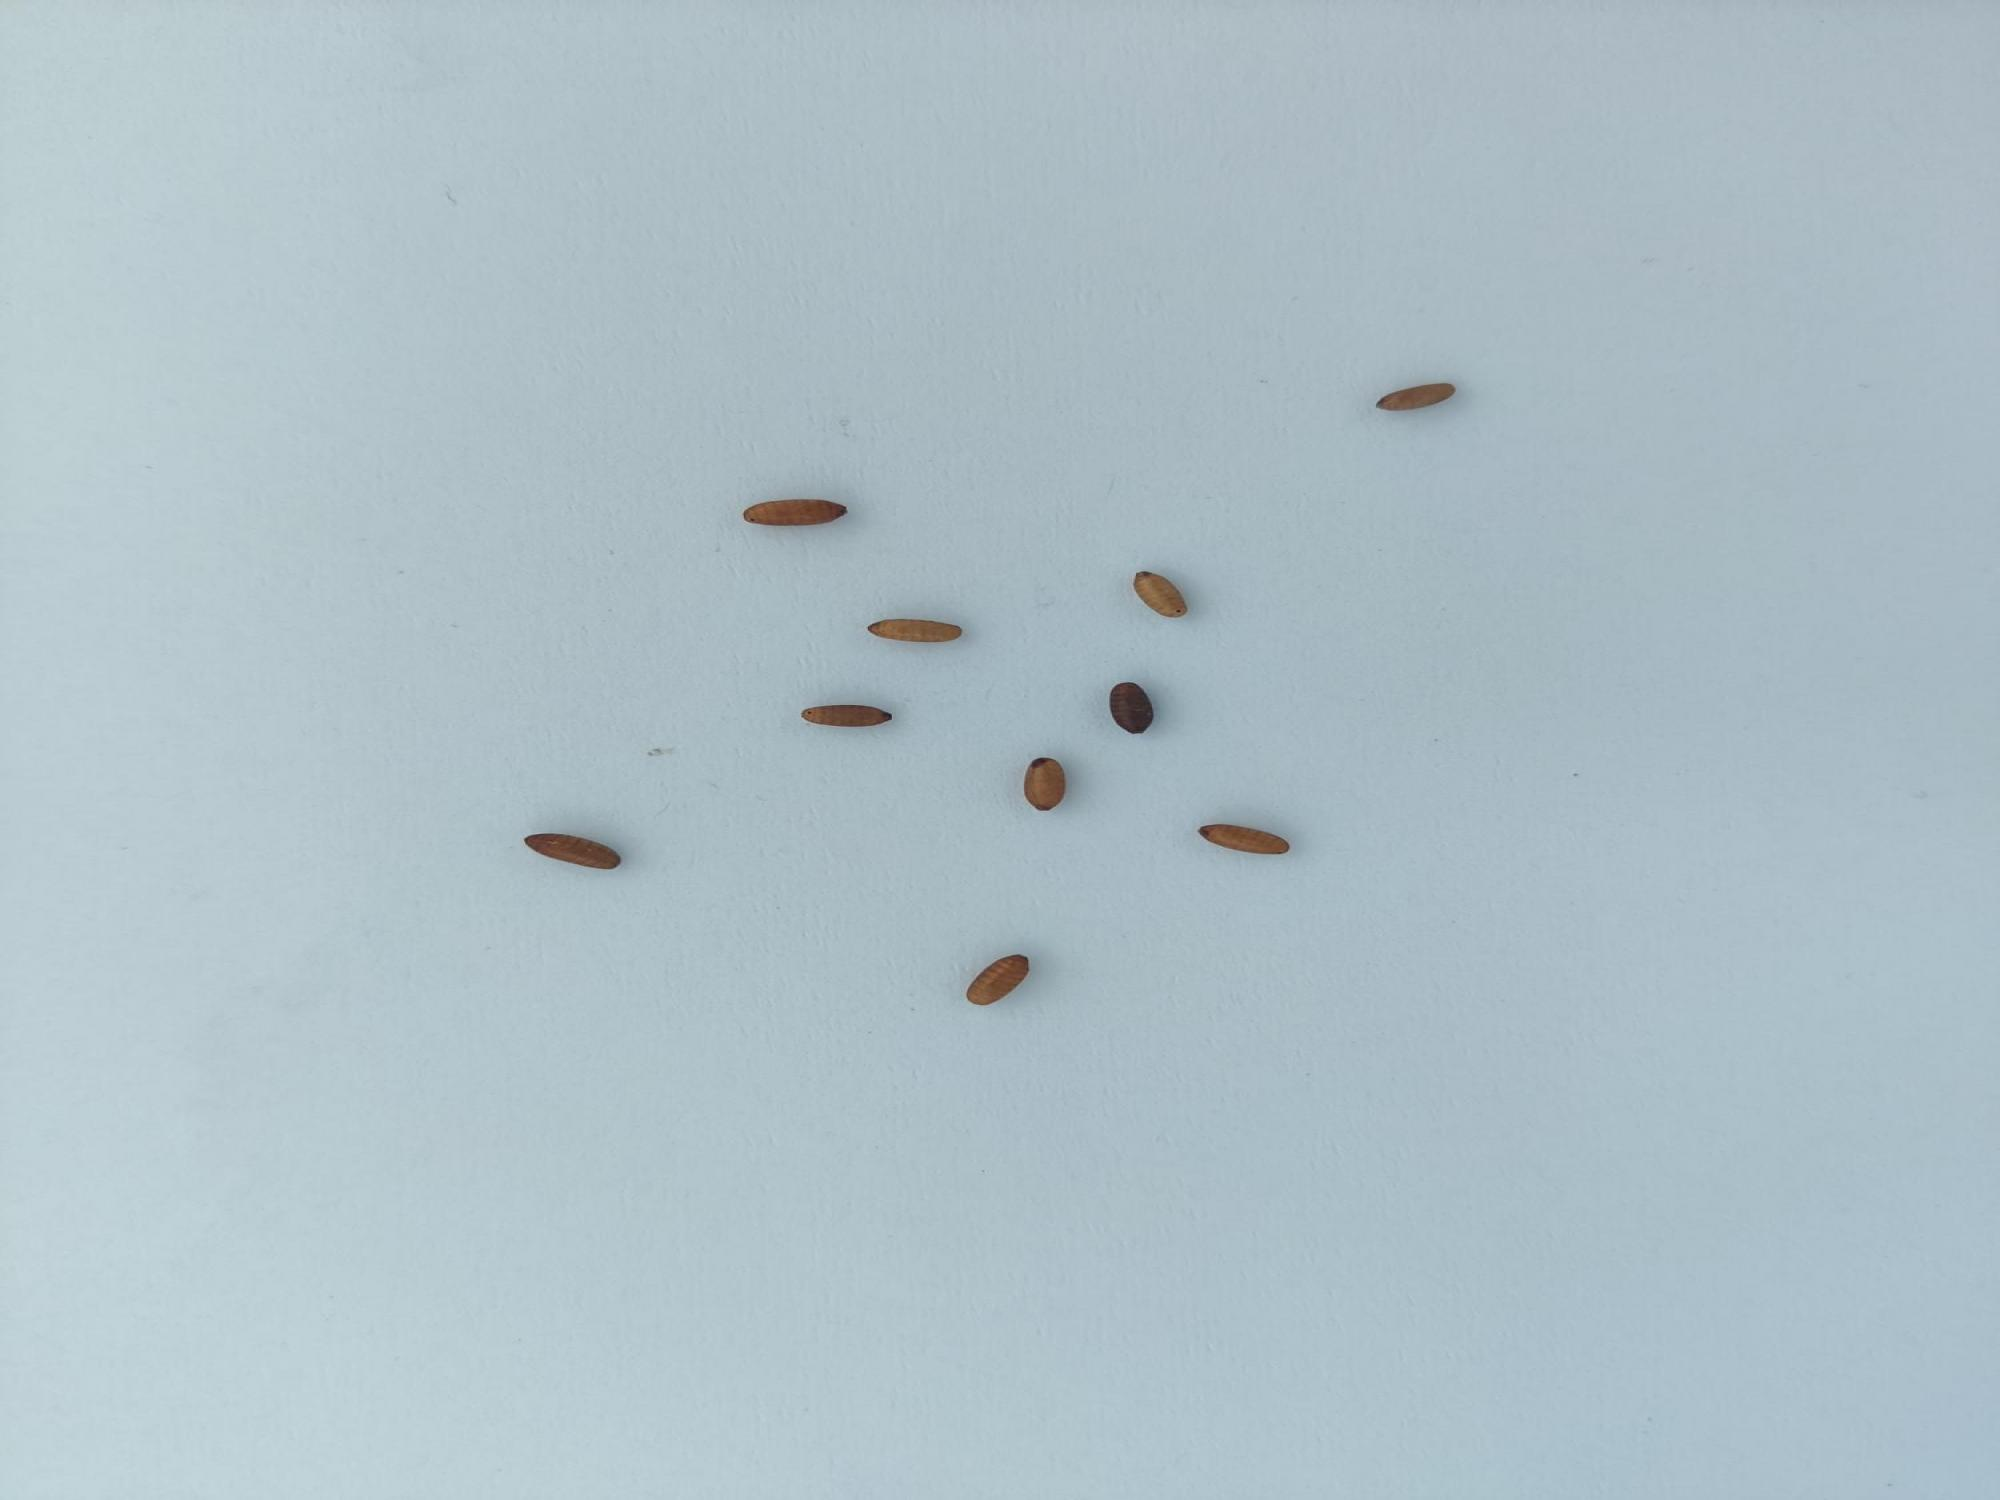pupae: (956, 944, 1054, 1016), (506, 829, 627, 878), (1118, 566, 1208, 630), (1006, 747, 1082, 822), (732, 492, 865, 534), (1186, 816, 1301, 862), (1101, 678, 1170, 741), (1361, 375, 1458, 419), (857, 614, 986, 648), (791, 696, 906, 733)
